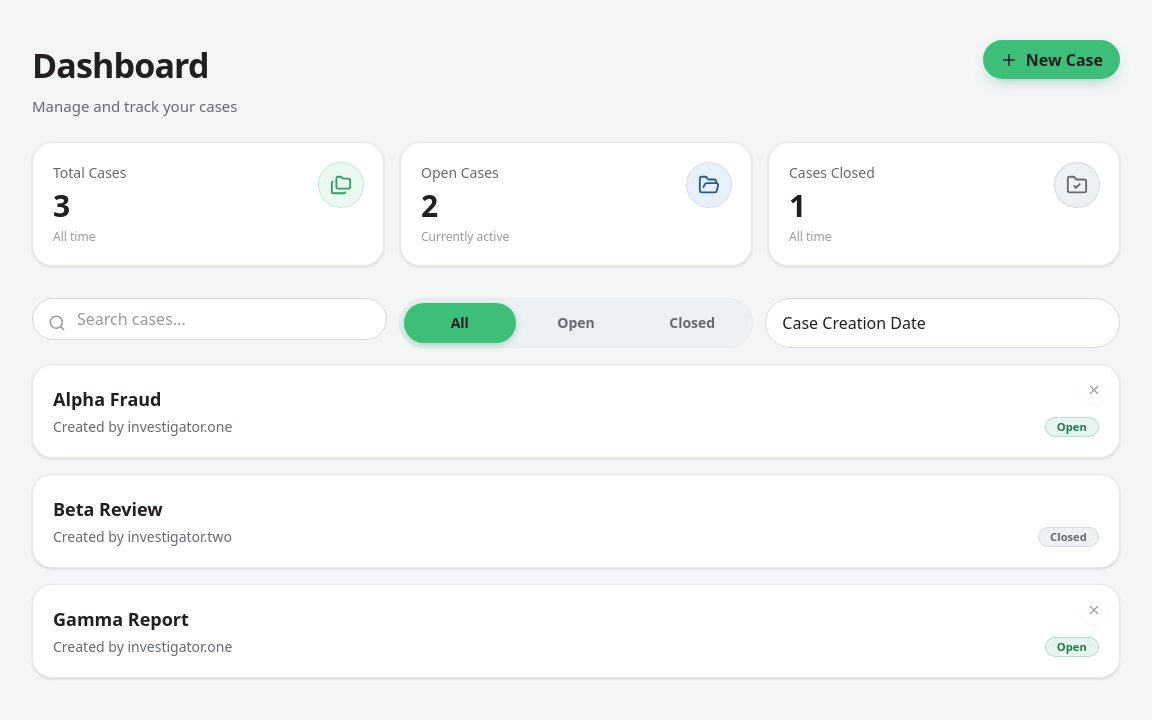
Scenario: Dashboard (integration) › filters the case list by status
What coordinates should you click on to do the following:
click the button "Closed"
I would click on:
 (692, 322)
Its box is [636,302,748,342].
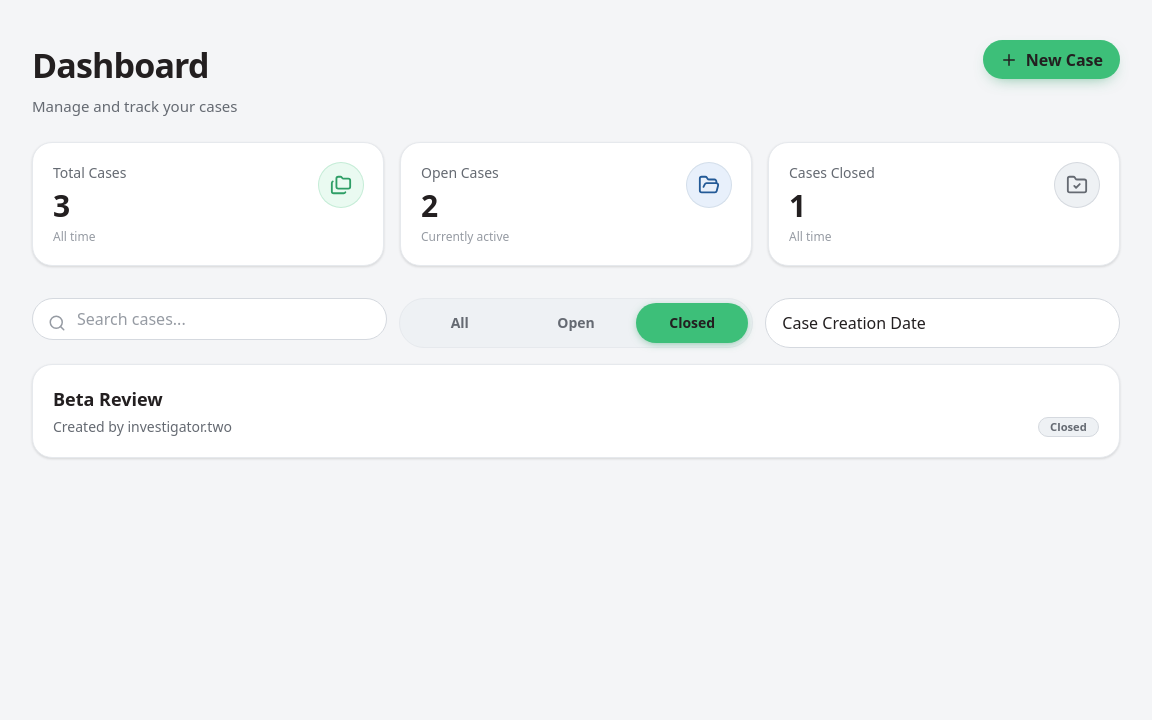
expect the text "Beta Review" is shown: met, box [53,386,163,410]
expect the text "Alpha Fraud" is gone: met
expect the text "Gamma Report" is gone: met
